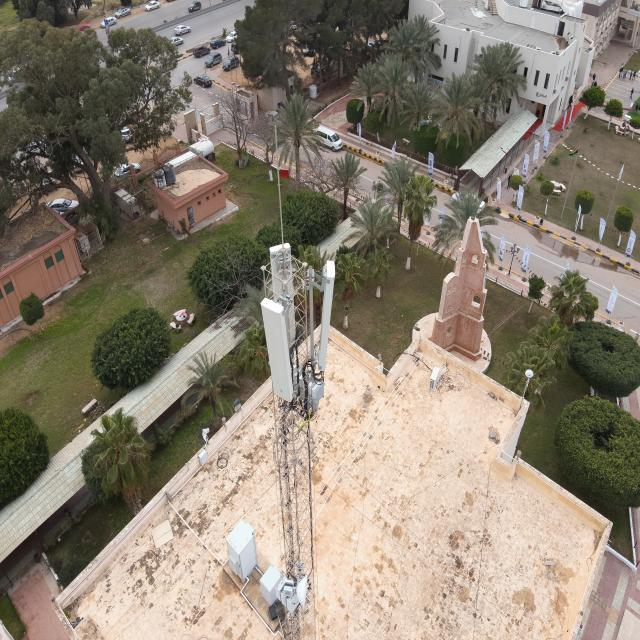antenna: (259, 296, 295, 403), (268, 239, 296, 341), (318, 259, 336, 375)
lighnig-rad: (274, 125, 288, 252)
microware-dish: (282, 574, 311, 608)
power-box: (275, 570, 299, 614)
radio-unit: (289, 361, 325, 407)
